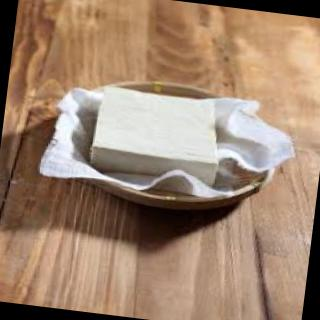Tahu: (71, 72, 246, 205)
